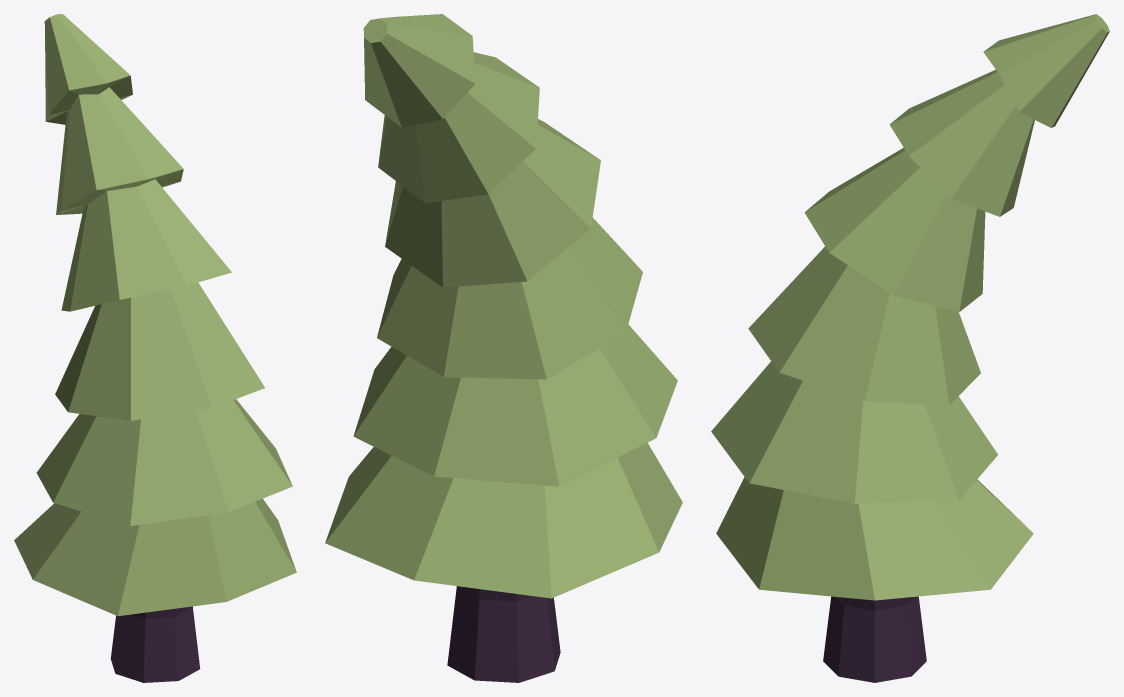
The model's file is Puu1.fbx.
3 views of the same model, side by side, from view 1: azimuth 30°, elevation 25°; view 2: azimuth 150°, elevation 25°; view 3: azimuth 270°, elevation 25° (orthographic). The views are drawn at different scales.
Parts seen in each view (by area): view 1: Puu1; view 2: Puu1; view 3: Puu1.
Part boxes in pixels (x1=…): Puu1: x1=14, y1=14, x2=296, y2=682; Puu1: x1=325, y1=14, x2=682, y2=682; Puu1: x1=711, y1=14, x2=1109, y2=682.
Bounding box in the file's own units: 343 × 772 × 432.
